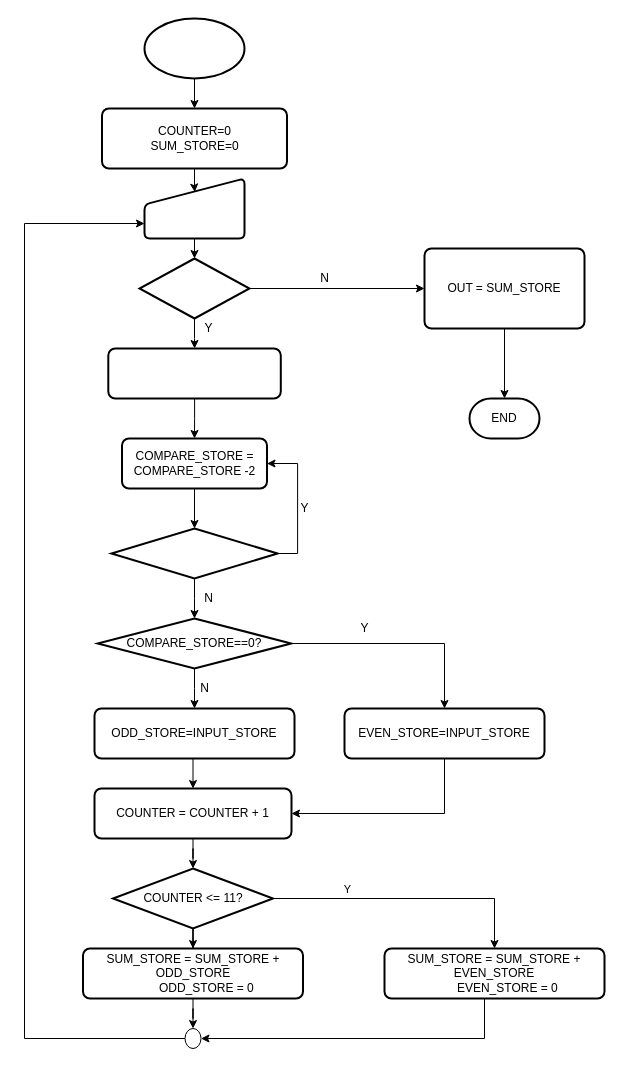
Image size: 623x1066. Some labels were removed from this diagram. The box of each missing label's shape, as (x1, y1, x2, y2) in pixels:
COMPARE_STORE>0?: (110, 527, 278, 579)
Get data to IN: (143, 177, 245, 239)
IN != 0?: (138, 257, 250, 319)
INPUT_STORE=IN COMPARE_STORE = IN: (107, 347, 281, 399)
Start: (143, 17, 245, 79)
